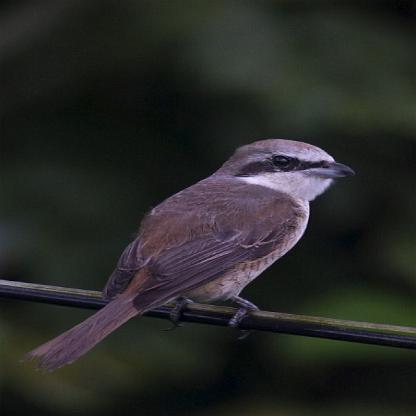Burung: (17, 138, 352, 376)
